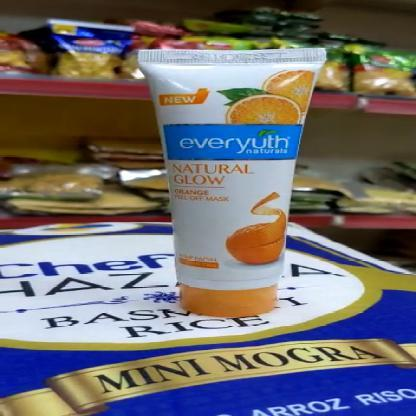EY ADVANCED GOLDEN GLOW PEEL OFF M- 50G: (161, 50, 301, 320)
